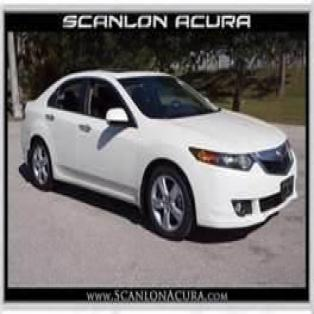Auto: (23, 70, 298, 241)
